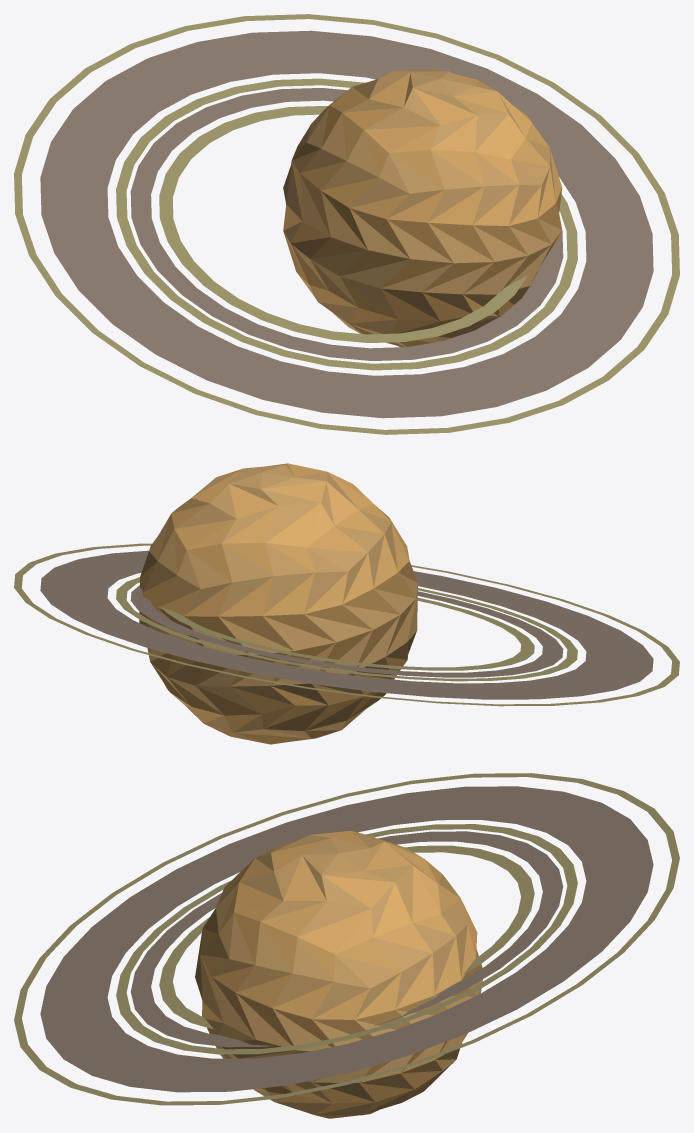
Rendered from Saturn.fbx.
3 renders of one model, top to bottom at view 1: azimuth 30°, elevation 25°; view 2: azimuth 150°, elevation 25°; view 3: azimuth 270°, elevation 25°, orthographic. The views are drawn at different scales.
Parts seen in each view (by area): view 1: SaturnsRings.001, Saturn.001; view 2: Saturn.001, SaturnsRings.001; view 3: SaturnsRings.001, Saturn.001.
Part boxes in pixels (x1=…): SaturnsRings.001: x1=14, y1=14, x2=679, y2=434; Saturn.001: x1=283, y1=69, x2=562, y2=347; Saturn.001: x1=139, y1=463, x2=417, y2=744; SaturnsRings.001: x1=14, y1=543, x2=679, y2=706; SaturnsRings.001: x1=14, y1=773, x2=679, y2=1105; Saturn.001: x1=195, y1=830, x2=482, y2=1118.
Size of the model in its own units: 693 by 288 by 669.
